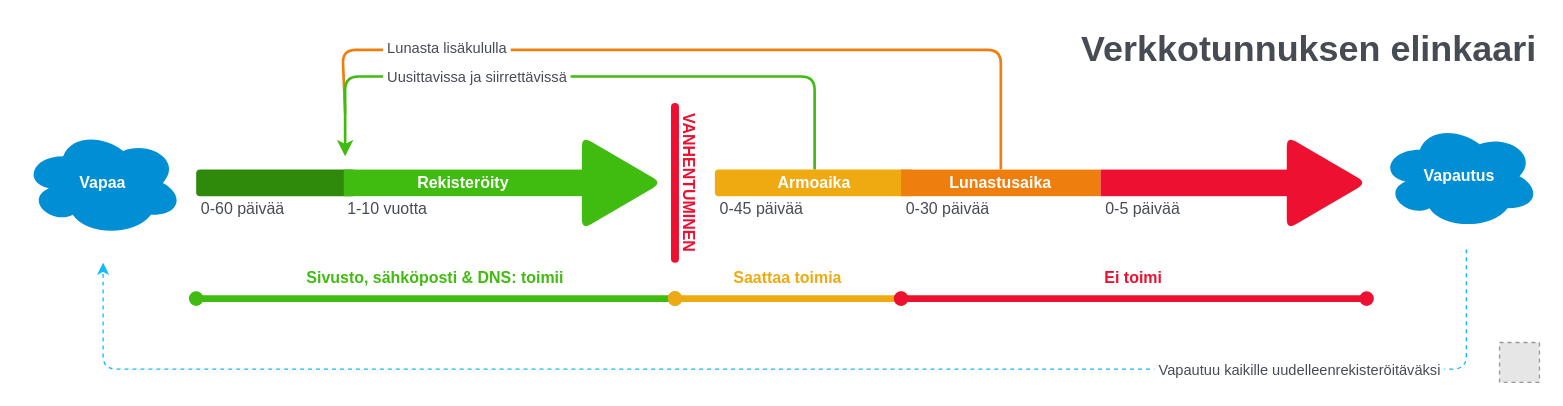
The diagram is 1563 pixels wide and 406 high, and some of its shapes have lost their labels. Grey dashed boxes stand in for pictures. The centre of each missing label's shape, as x and y in pixels:
"Poistoaika" belongs at (1199,182).
"Siirto estetty" belongs at (275,182).
